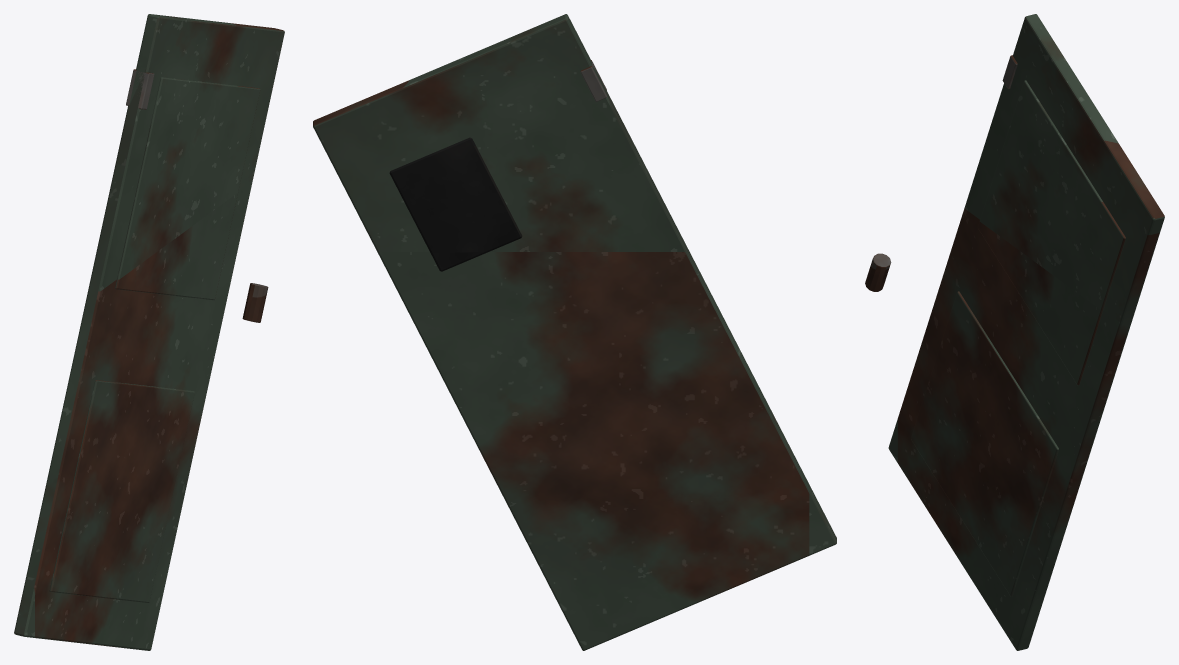
File: BR03_broken_door_hanging_v3.glb
3 views of the same model, side by side, from view 1: azimuth 30°, elevation 25°; view 2: azimuth 150°, elevation 25°; view 3: azimuth 270°, elevation 25° (orthographic). The views are drawn at different scales.
Visible parts, largest first — view 1: BR03_broken_door_hanging_v3; view 2: BR03_broken_door_hanging_v3; view 3: BR03_broken_door_hanging_v3.
Boxes of the visible parts, bbox=[...] form: BR03_broken_door_hanging_v3: bbox=[14, 14, 284, 650]; BR03_broken_door_hanging_v3: bbox=[313, 14, 836, 650]; BR03_broken_door_hanging_v3: bbox=[865, 14, 1164, 650].
Bounding box in the file's own units: 1.45 × 2.2 × 0.933.
Materials: 3 (3 with a texture image).
